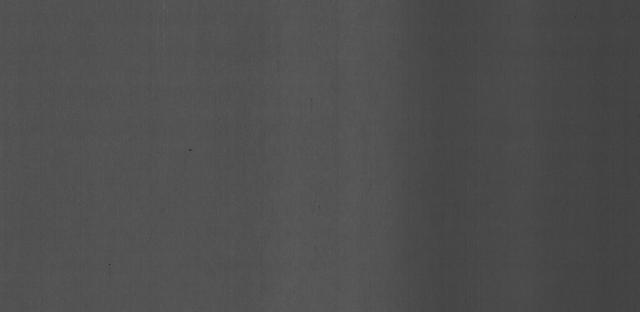inclusion: (187, 146, 194, 155)
